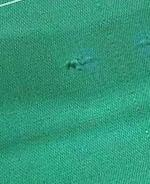knot: (64, 55, 89, 72)
